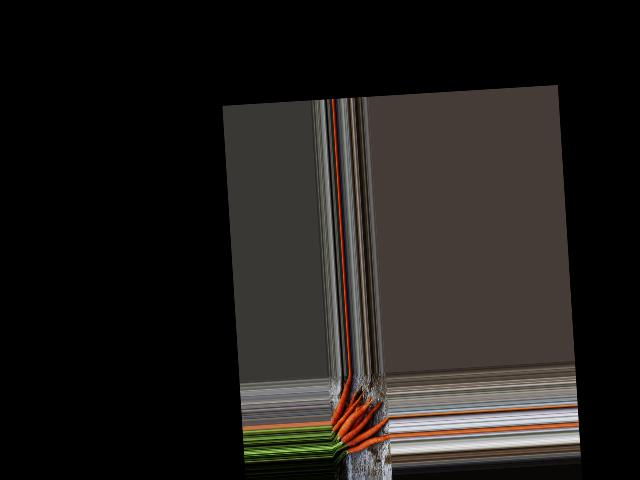carrot: (328, 375, 356, 429)
